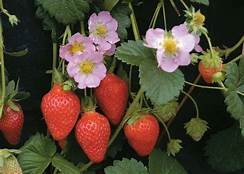Fresa: (71, 104, 117, 167), (38, 80, 82, 144), (120, 110, 167, 161), (92, 71, 132, 127), (1, 96, 26, 147)
